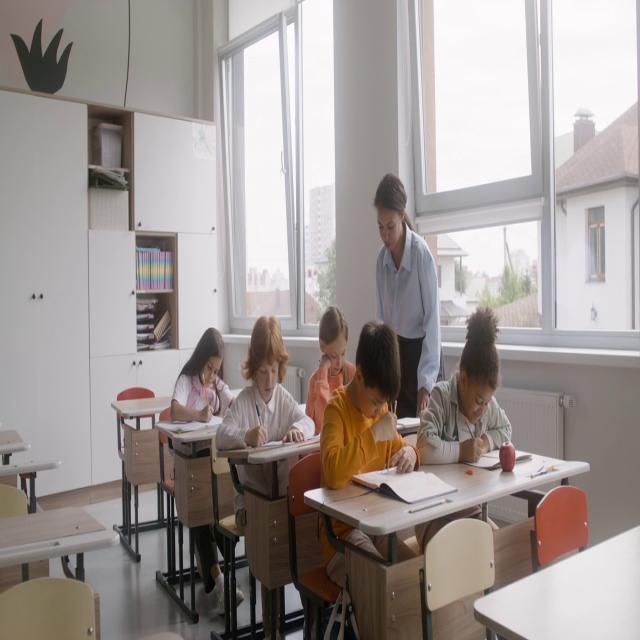reading: (306, 306, 353, 437)
writing: (319, 320, 423, 634), (216, 317, 313, 508), (418, 308, 510, 469), (170, 328, 232, 438)
